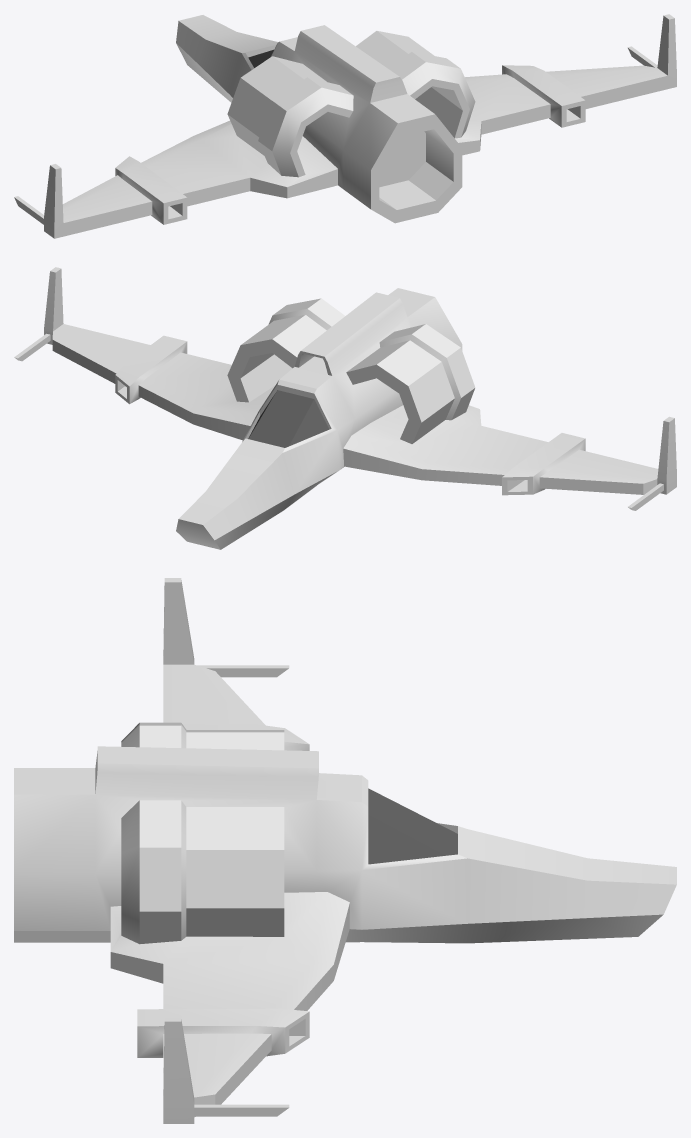
3 views of the same model, one above another, from view 1: azimuth 30°, elevation 25°; view 2: azimuth 150°, elevation 25°; view 3: azimuth 270°, elevation 25° (orthographic). The views are drawn at different scales.
Visible parts, largest first — view 1: Body; view 2: Body; view 3: Body.
Part boxes in pixels (box(x1,y1,x2,y2)): Body: box(14, 14, 676, 238); Body: box(14, 267, 676, 549); Body: box(14, 578, 676, 1123).
Bounding box in the file's own units: 10 × 1.81 × 6.28.
1 material, 1 textured.
